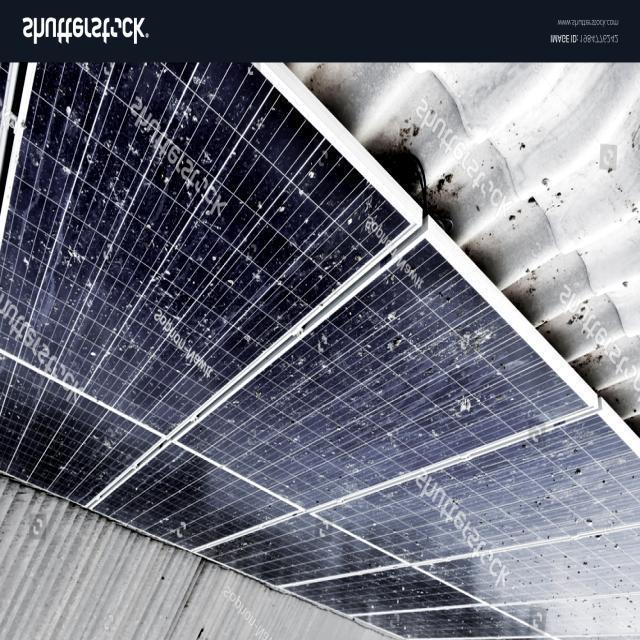soiled: (14, 65, 634, 634)
